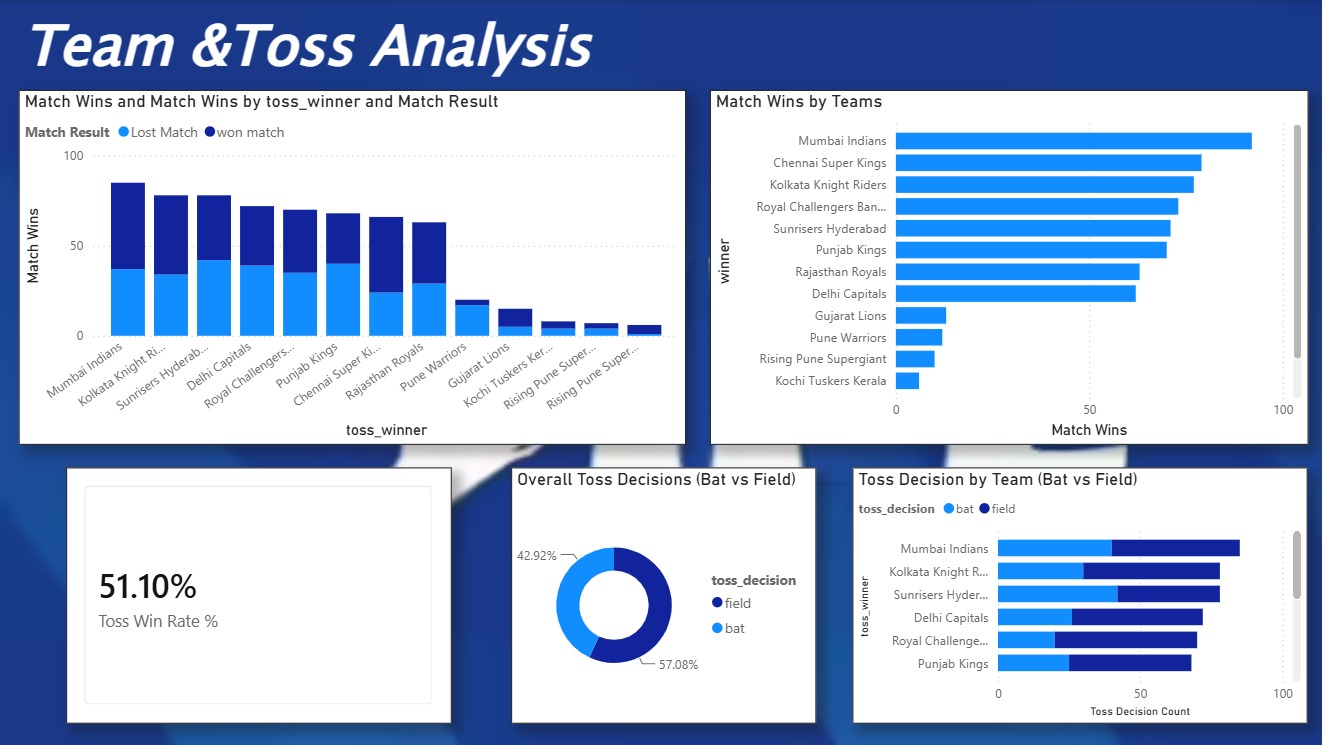

This screenshot's page, from the dashboard's own definition file:
{"tool":"powerbi","page":{"name":"Team&Toss Analysis","canvas":[1280,720],"ordinal":3},"visuals":[{"type":"clusteredBarChart","title":"Match Wins by Teams","fields":{"Category":["matches (1) - matches (1) csv.winner"],"Y":["Measures (3).Match Wins"]},"box":[685.5,87.4,577.2,342.2],"z":0},{"type":"cardVisual","fields":{"Data":["Measures (3).Toss Win Rate %"]},"box":[64,451.7,371.7,247.4],"z":1000},{"type":"columnChart","fields":{"Category":["matches (1) - matches (1) csv.toss_winner"],"Y":["Measures (3).Match Wins"],"Series":["matches (1) - matches (1) csv.Match Result"]},"box":[18.5,87.4,643.7,342.2],"z":2000},{"type":"barChart","title":"Toss Decision by Team (Bat vs Field)","fields":{"Category":["matches (1) - matches (1) csv.toss_winner"],"Series":["matches (1) - matches (1) csv.toss_decision"],"Y":["Measures (3).Toss Decision Count"]},"box":[823.4,451.7,439.4,247.4],"z":7000},{"type":"donutChart","title":"Overall Toss Decisions (Bat vs Field)","fields":{"Category":["matches (1) - matches (1) csv.toss_decision"],"Y":["Measures (3).Toss Decision Count"]},"box":[493.5,451.7,294.2,247.4],"z":8000},{"type":"textbox","box":[17.5,0,1262.5,101.2],"z":8001}]}

Visuals, with their boxes in screenshot pixels (x1, y1, x2, y2), scaled from the page's 1280x720 canvas onto the 1322x745 screenshot:
"Match Wins by Teams" clusteredBarChart: left=708, top=90, right=1304, bottom=445
cardVisual - Measures (3).Toss Win Rate %: left=66, top=467, right=450, bottom=723
columnChart - matches (1) - matches (1) csv.toss_winner x Measures (3).Match Wins: left=19, top=90, right=684, bottom=445
"Toss Decision by Team (Bat vs Field)" barChart: left=850, top=467, right=1304, bottom=723
"Overall Toss Decisions (Bat vs Field)" donutChart: left=510, top=467, right=814, bottom=723
textbox: left=18, top=0, right=1321, bottom=105
